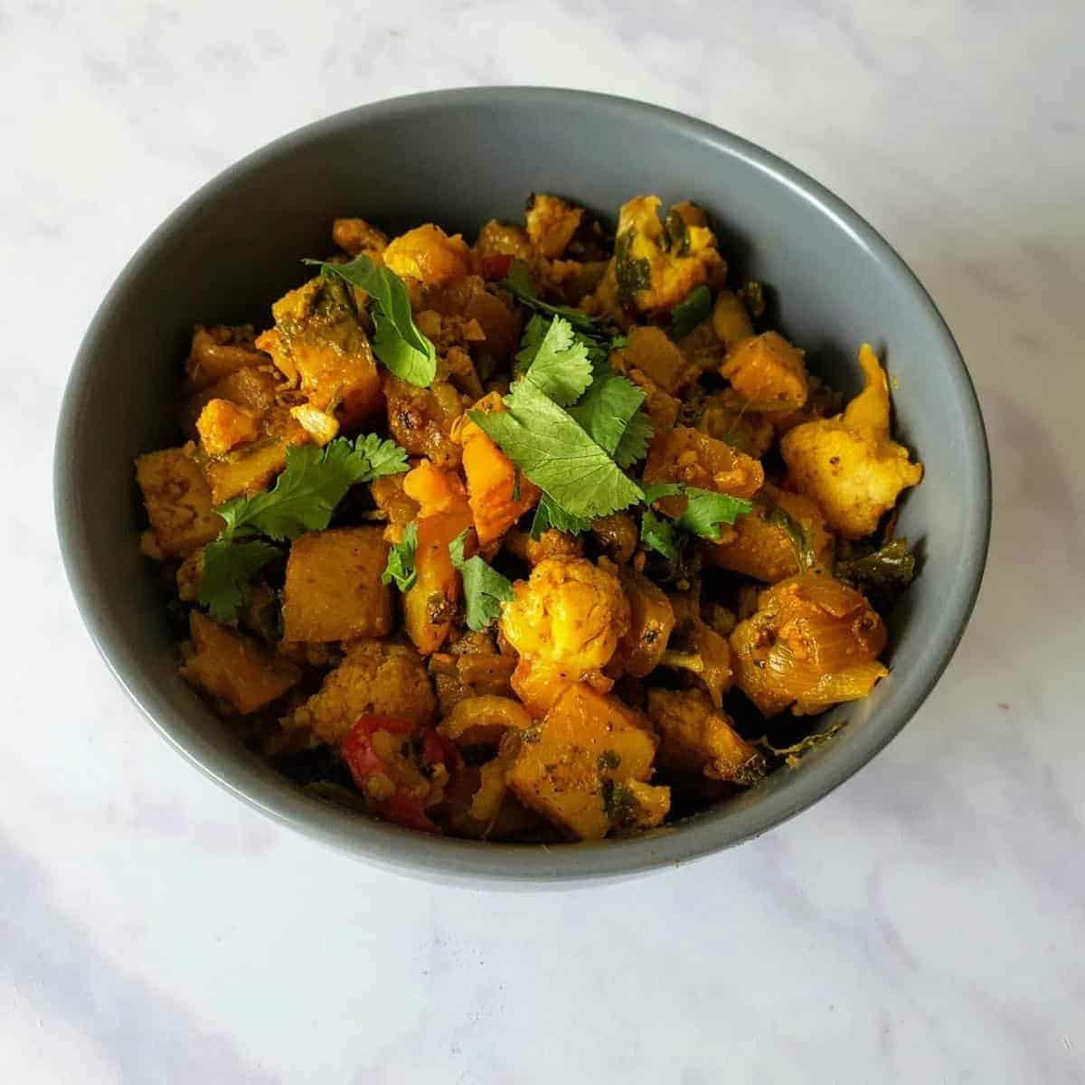AlooGobi: (136, 188, 922, 842)
